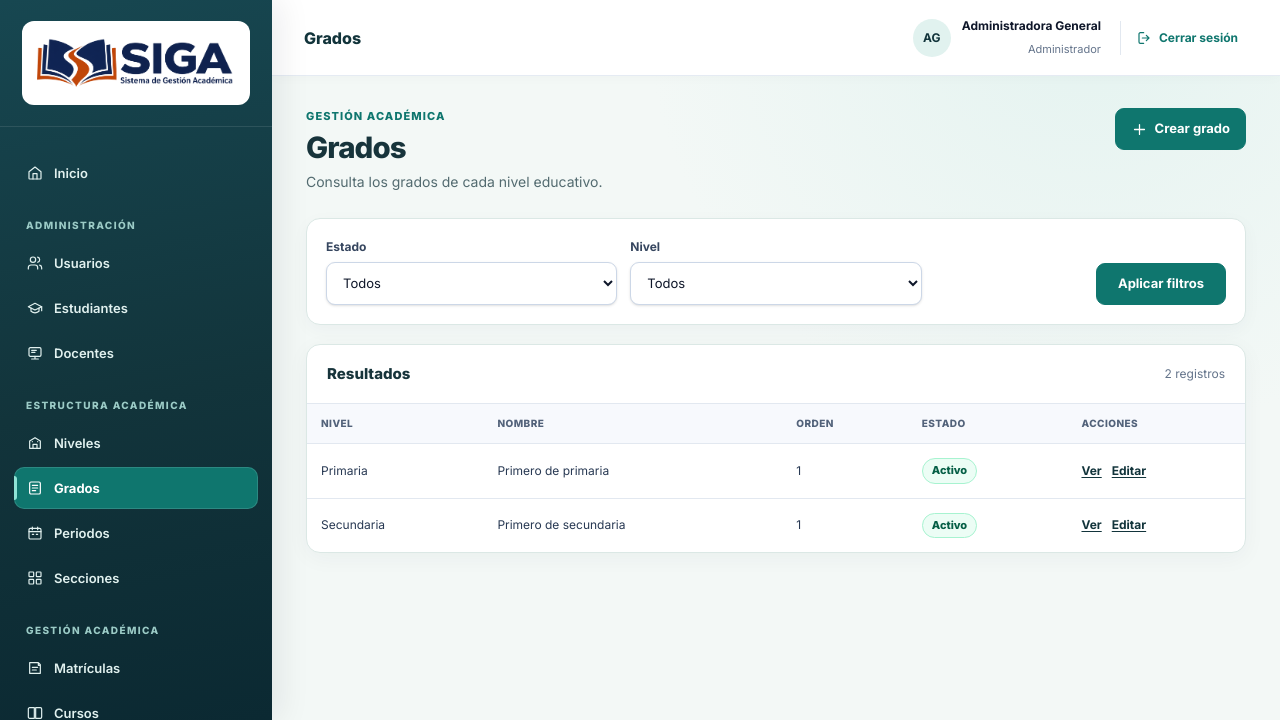
Grados descarta filas antiguas al elegir Secundaria y aplica educationLevelId
expect the text "Primero de primaria" is shown: met, box [483, 444, 782, 498]
Select "Secundaria" in the dropdown labelled "Nivel" at (776, 284), box [630, 262, 922, 305]
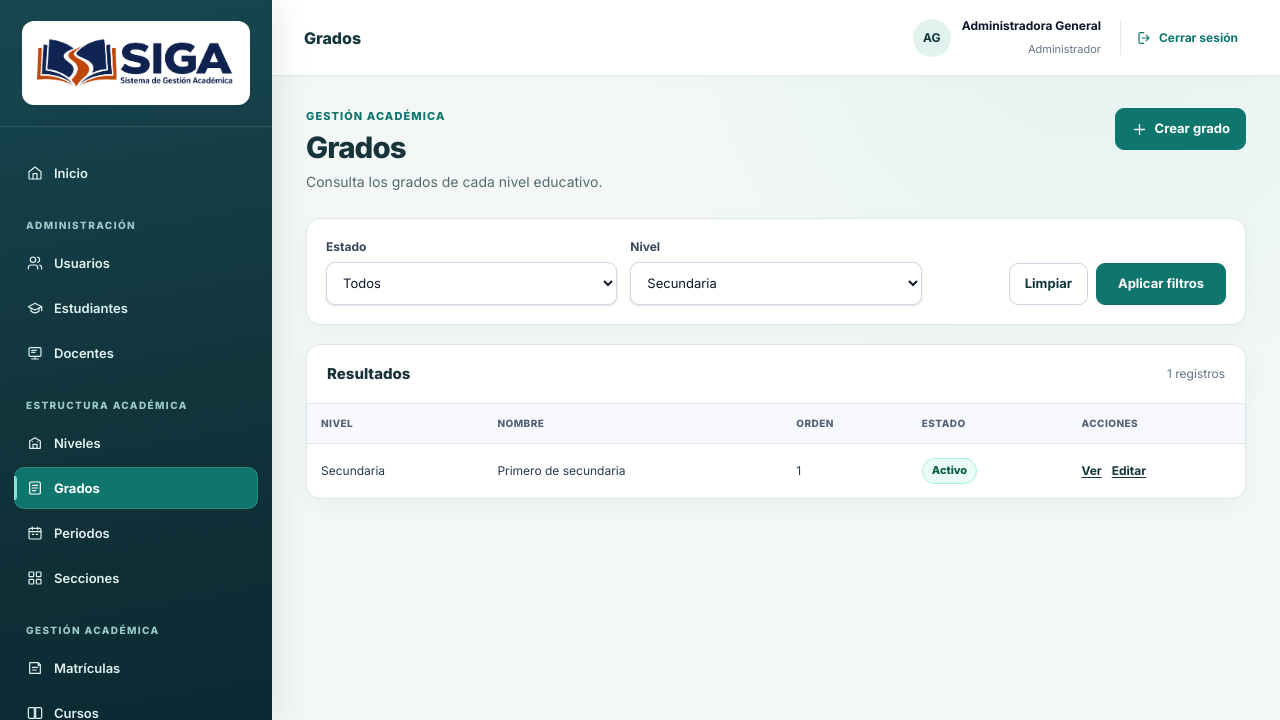
expect the text "Primero de secundaria" is shown: met, box [483, 444, 782, 498]
expect the text "Primero de primaria" is gone: met
